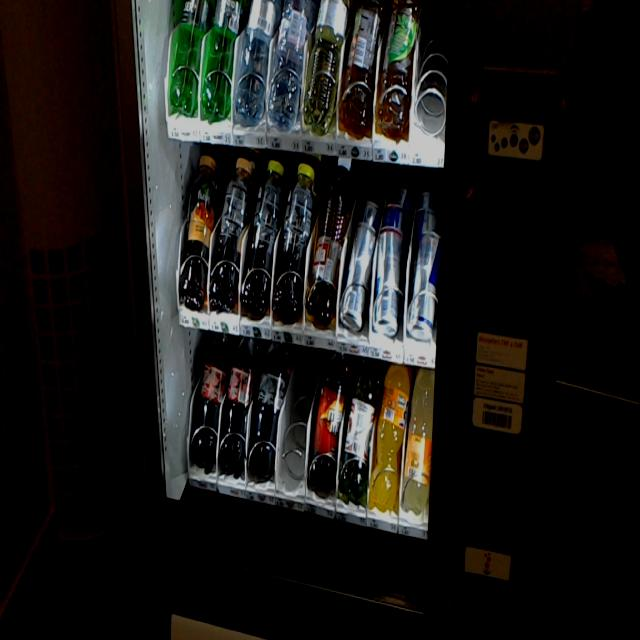coke__flasche_50__54491472: (217, 337, 258, 474), (189, 331, 229, 460)
coke_zero_flasche_50__5449000131836: (246, 341, 292, 479)
evian___50__3068320353500: (264, 0, 315, 129)
fanta___50__40822938: (368, 366, 410, 508)
fuse_lemon__50__5449000235947: (238, 160, 286, 309), (270, 165, 315, 316)
fuse_peach__50__5449000236623: (177, 154, 220, 306), (209, 158, 253, 306)
mezzomix___50__54490840: (305, 350, 349, 491)
ramseier_jusdepomme__50__7610057001078: (337, 358, 379, 499)
redbull___33__90162909: (336, 224, 378, 334), (405, 231, 440, 337), (371, 224, 402, 334)
rivella_rot__50__7610097111072: (306, 155, 354, 326)
schweppes_citrus__50__: (405, 365, 435, 514)
valser_classic__50__76404160: (168, 0, 212, 117)
valser_still__50__7610335002575: (232, 0, 282, 122)
valser_vivabirne__50__7610335001530: (300, 0, 350, 131)
volvic_teeminze__50__3057640335648: (337, 0, 386, 133), (374, 0, 421, 136)
